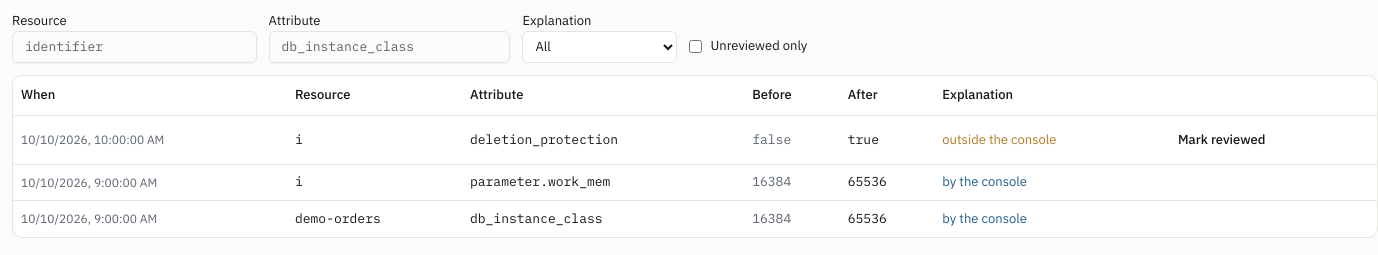
it: ChangesView › narrows the rows by resource and by attribute as they are typed
Check: the text "db_instance_class" is shown, box top-left (462, 201), bottom-right (744, 237)
Type "demo-orders" into the field labelled "Resource".
click(134, 47); type("demo-orders")  # box top-left (12, 31), bottom-right (257, 63)
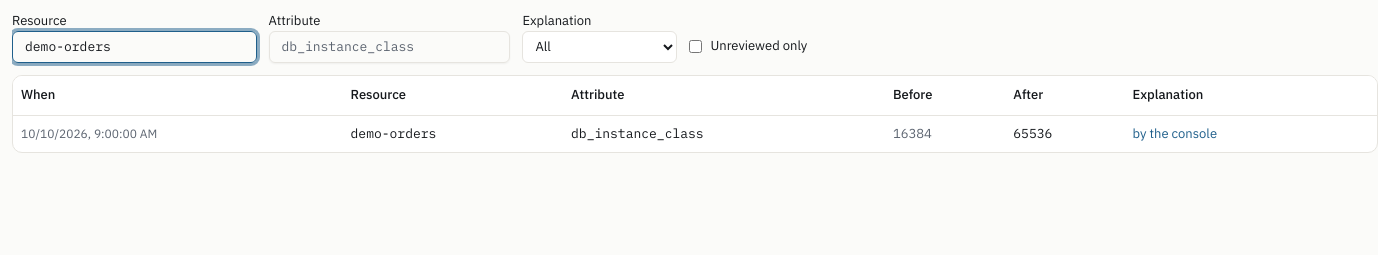
Check: the text "db_instance_class" is shown, box top-left (563, 116), bottom-right (885, 152)
Check: the text "deletion_protection" is gone
Clear the field labelled "Resource" at coordinates (134, 47), box top-left (12, 31), bottom-right (257, 63)
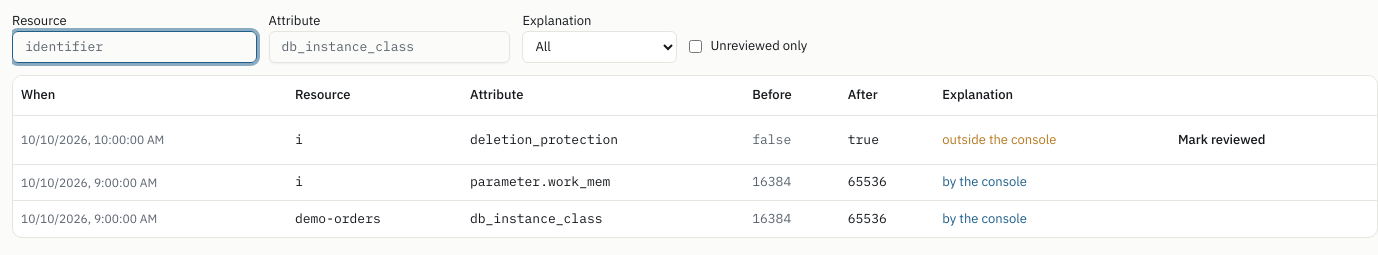
Type "work_mem" into the field labelled "Attribute".
click(390, 47); type("work_mem")  # box top-left (269, 31), bottom-right (510, 63)
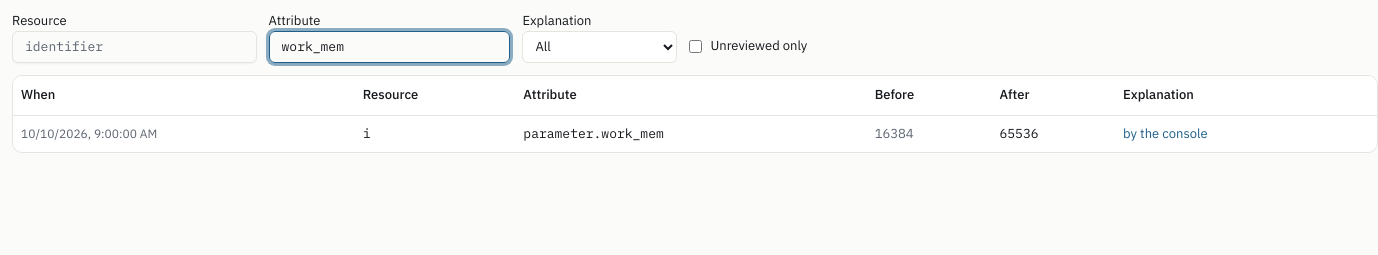
Check: the text "parameter.work_mem" is shown, box top-left (515, 116), bottom-right (867, 152)
Check: the text "db_instance_class" is gone
Replace the text in the field labelled "Attribute" with "nothing-like-this" at coordinates (390, 47), box top-left (269, 31), bottom-right (510, 63)
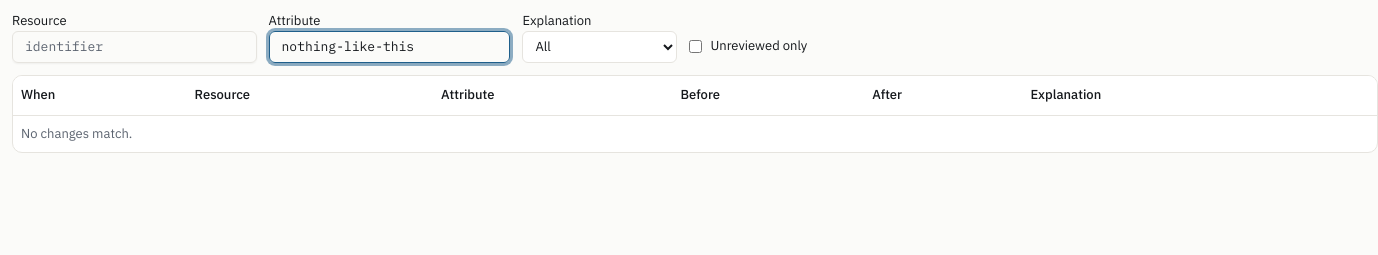
Check: the text "No changes match." is shown, box top-left (13, 116), bottom-right (1377, 152)
